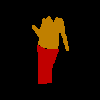gonna: (37, 44, 58, 84)
maglia: (32, 15, 68, 51)
